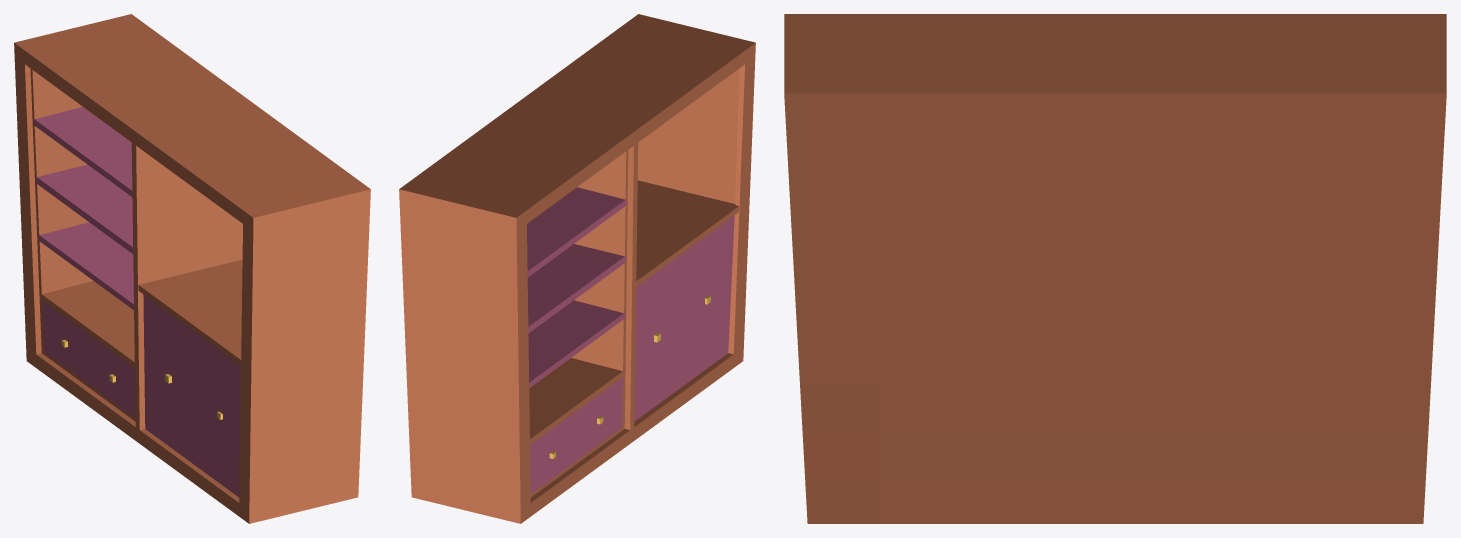
Rendered from obj_closet_3x1.FBX.
3 views of the same model, side by side, from view 1: azimuth 30°, elevation 25°; view 2: azimuth 150°, elevation 25°; view 3: azimuth 270°, elevation 25° (orthographic). The views are drawn at different scales.
Visible parts, largest first — view 1: obj_closed_3x1; view 2: obj_closed_3x1; view 3: obj_closed_3x1.
Boxes of the visible parts, x1,y1,x2,y2 form: obj_closed_3x1: (14,14,370,523); obj_closed_3x1: (399,14,755,523); obj_closed_3x1: (784,14,1446,523).
Size of the model in its own units: 0.6979 by 1.78 by 2.46.
